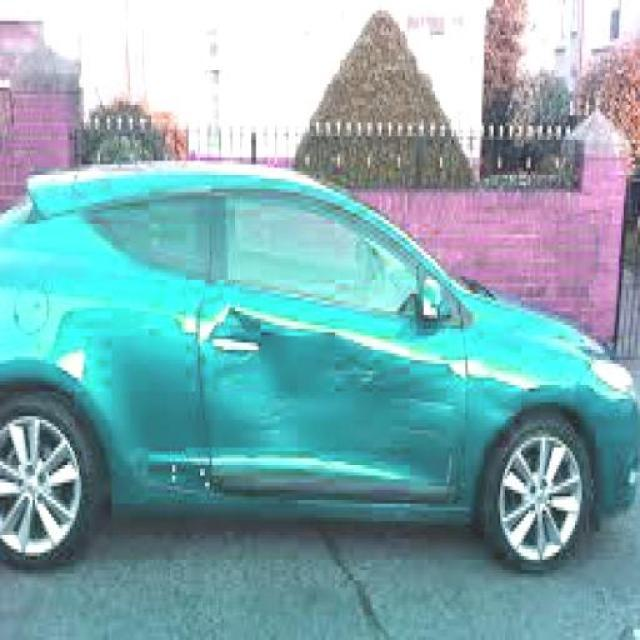Car-Damage: (213, 311, 457, 485)
